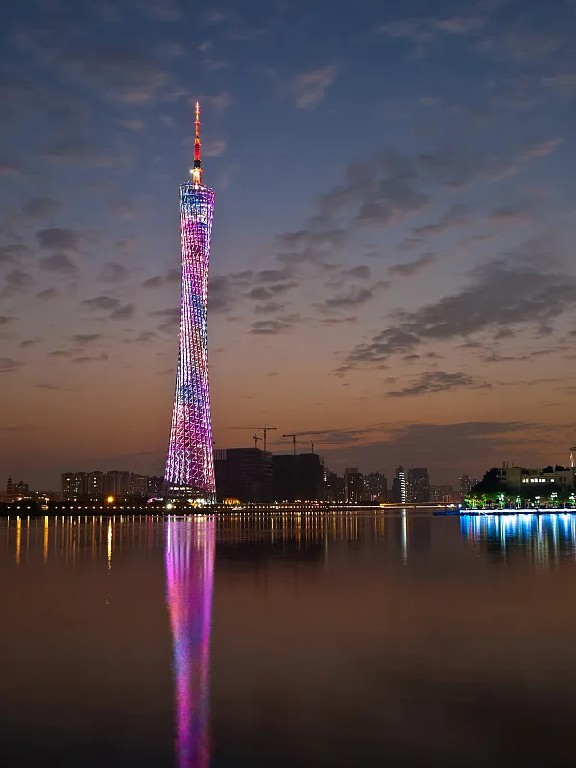Canton: (156, 96, 226, 500)
